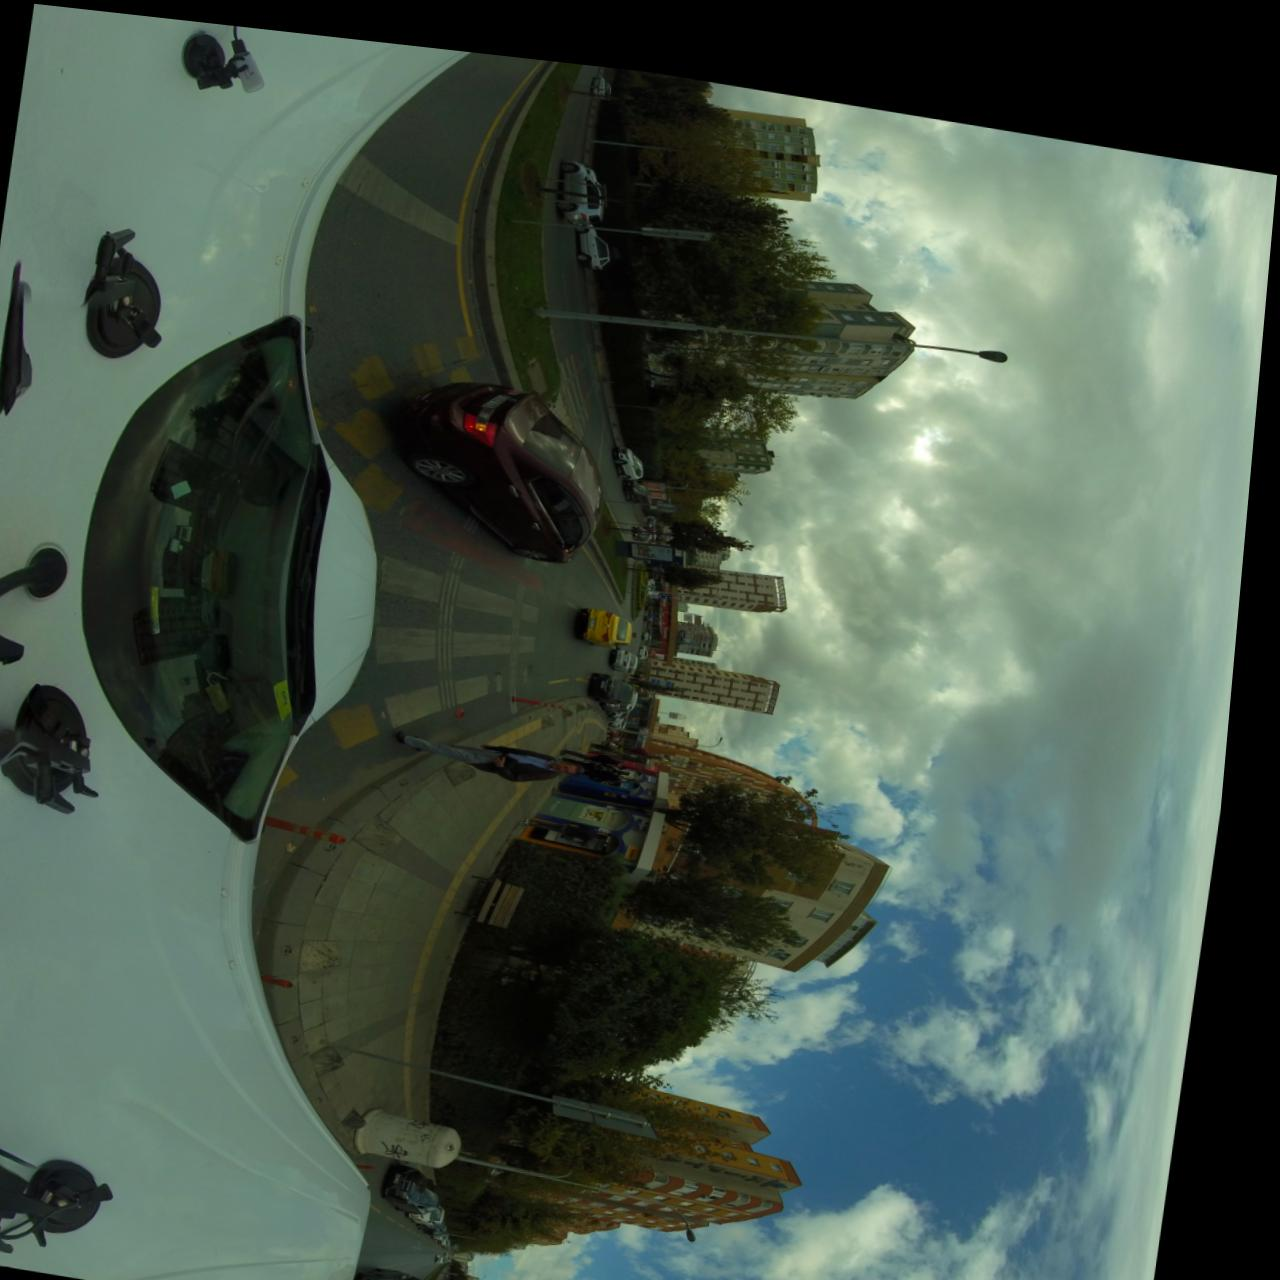SignStore: (672, 608, 678, 622)
